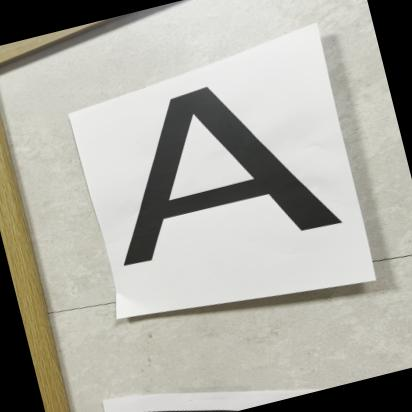seat: (63, 52, 350, 296)
